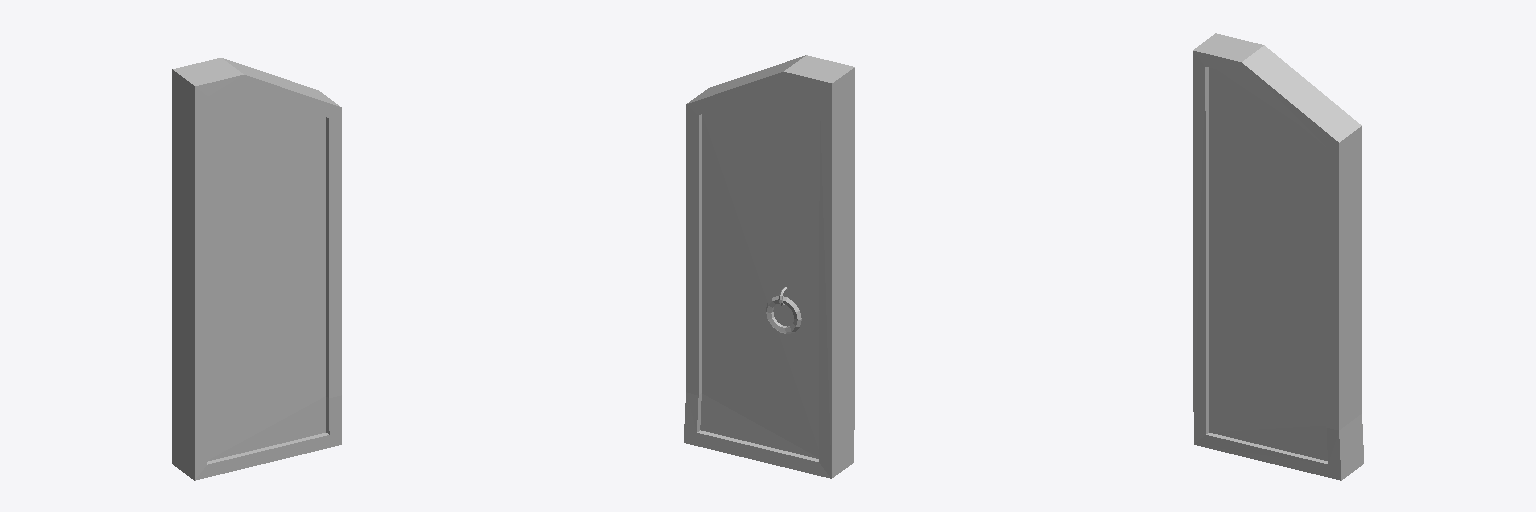
The model's file is ForestCastleDoorL.obj.
3 views of the same model, side by side, from view 1: azimuth 30°, elevation 25°; view 2: azimuth 150°, elevation 25°; view 3: azimuth 330°, elevation 25° (orthographic).
Visible parts, largest first — view 1: ForestCastleDoorL; view 2: ForestCastleDoorL; view 3: ForestCastleDoorL.
Part boxes in pixels (bbox=[...]): ForestCastleDoorL: bbox=[172, 58, 341, 480]; ForestCastleDoorL: bbox=[684, 55, 854, 478]; ForestCastleDoorL: bbox=[1193, 33, 1363, 480].
Size of the model in its own units: 162 by 413 by 50.37.